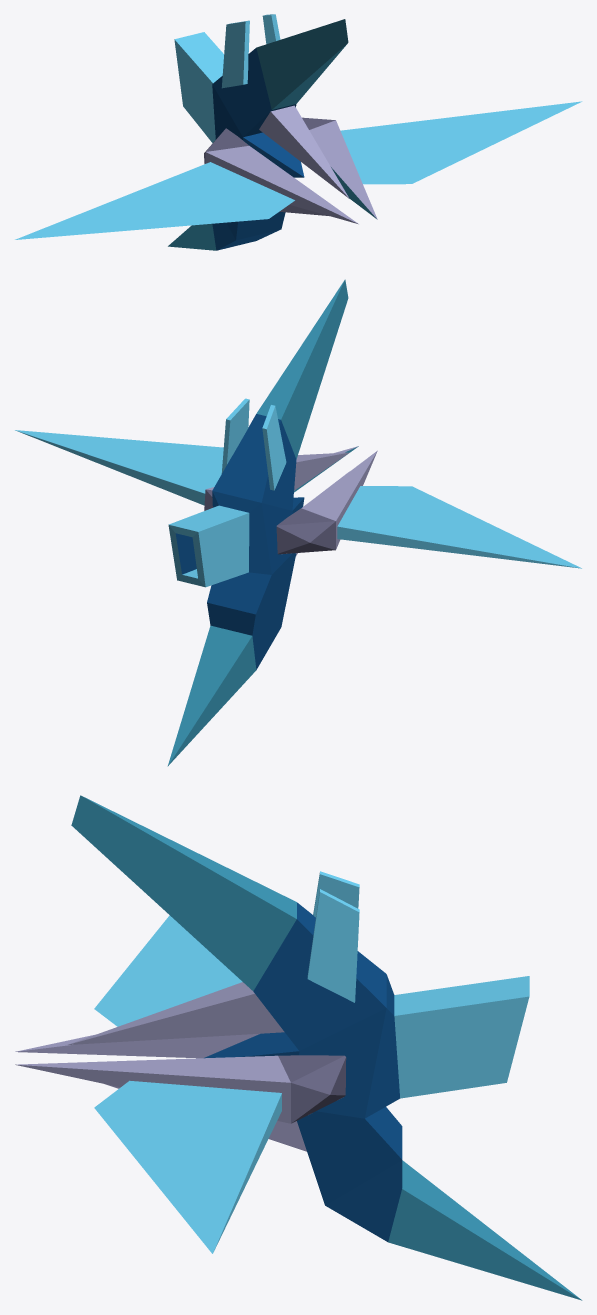
File: ship_01.FBX
The picture shows the model from 3 angles, top to bottom: view 1: azimuth 30°, elevation 25°; view 2: azimuth 150°, elevation 25°; view 3: azimuth 270°, elevation 25°; orthographic projection. The views are drawn at different scales.
Parts seen in each view (by area): view 1: ship_01; view 2: ship_01; view 3: ship_01.
Part boxes in pixels (box(x1,y1,x2,y2)): ship_01: box(15, 14, 582, 250); ship_01: box(15, 279, 581, 766); ship_01: box(15, 795, 582, 1300).
Bounding box in the file's own units: 275 × 165 × 169.
